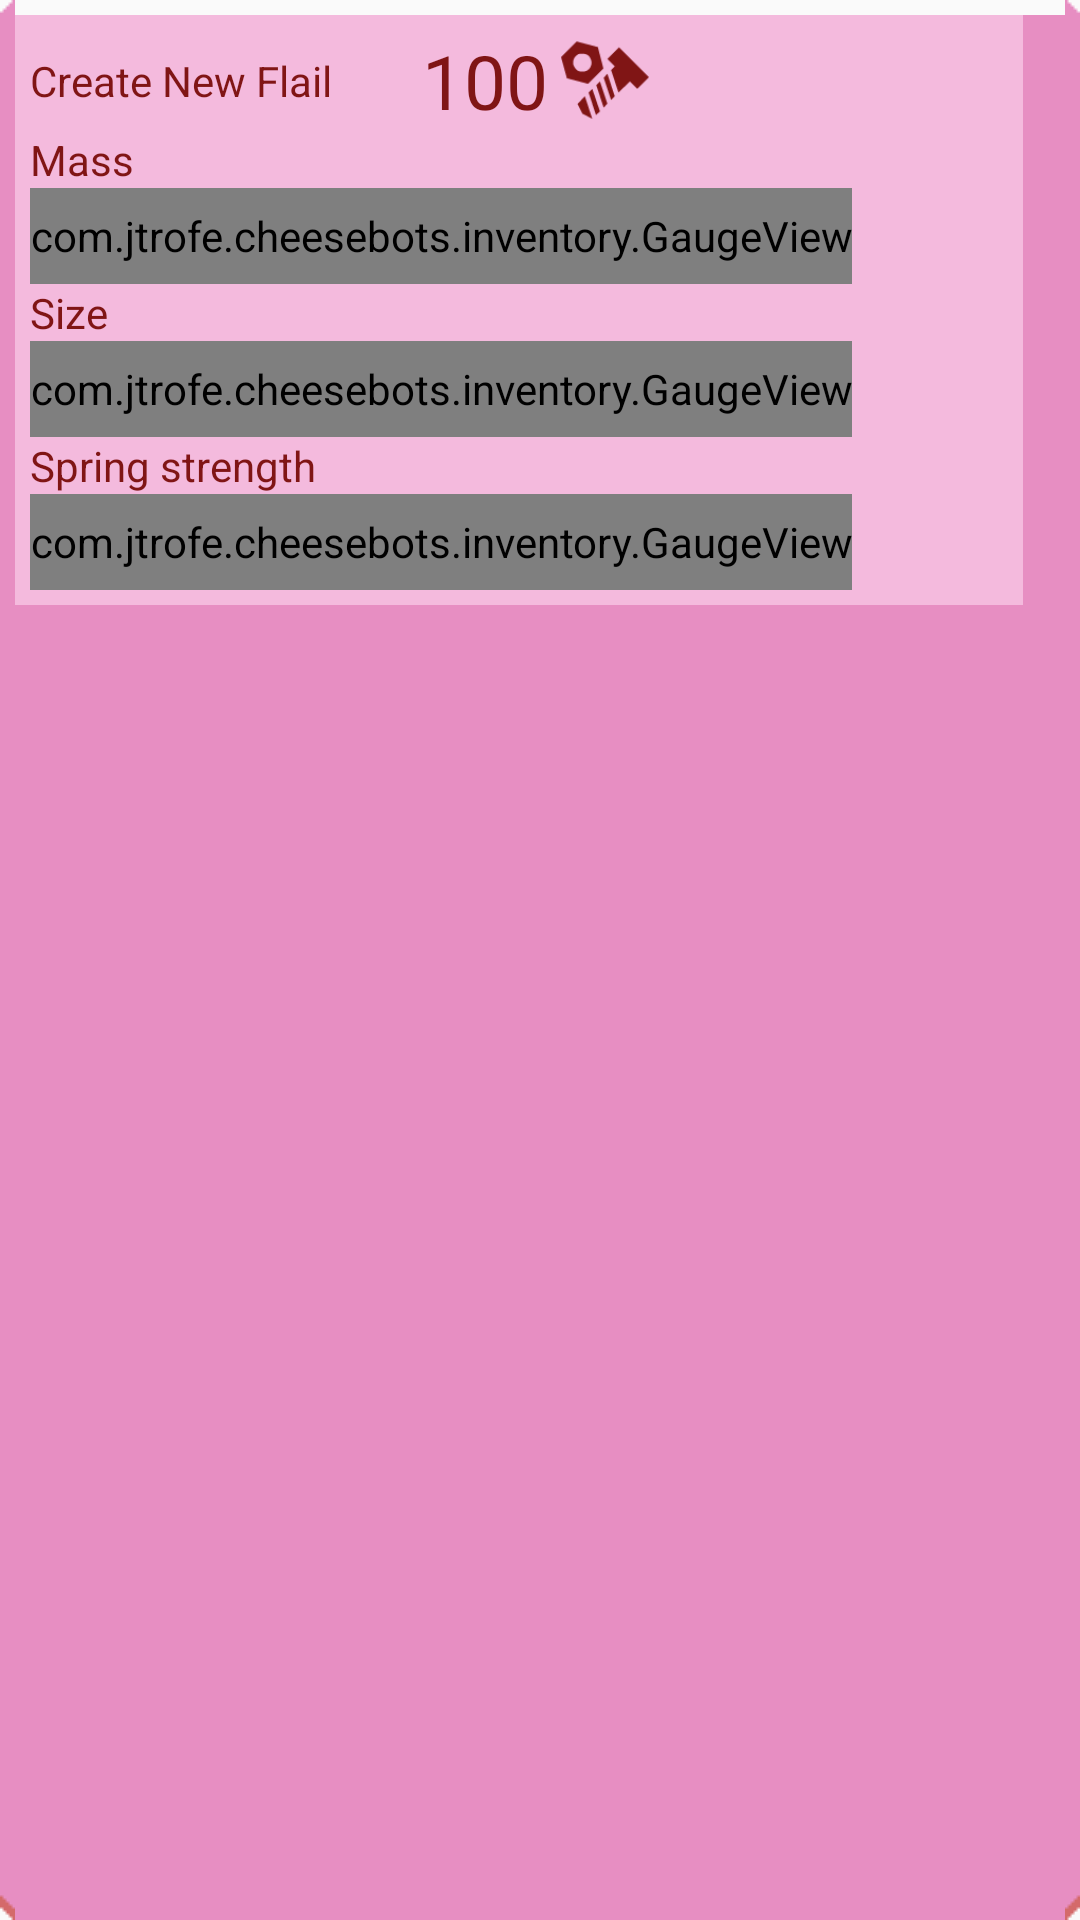

Screen size 1080px×1920px. Icon name, then its center in pixels as (x,y):
scrap: (605,80)
